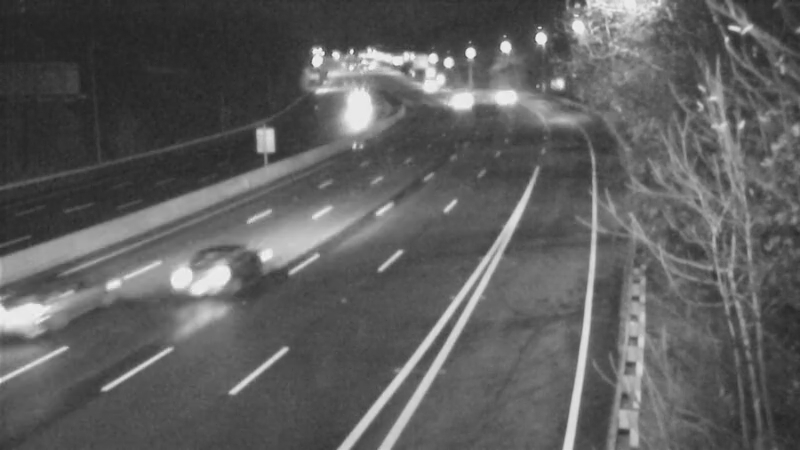vehicle: (1, 250, 110, 360), (173, 238, 253, 318), (399, 58, 449, 108), (474, 71, 524, 121), (435, 78, 485, 128), (331, 78, 381, 128)
